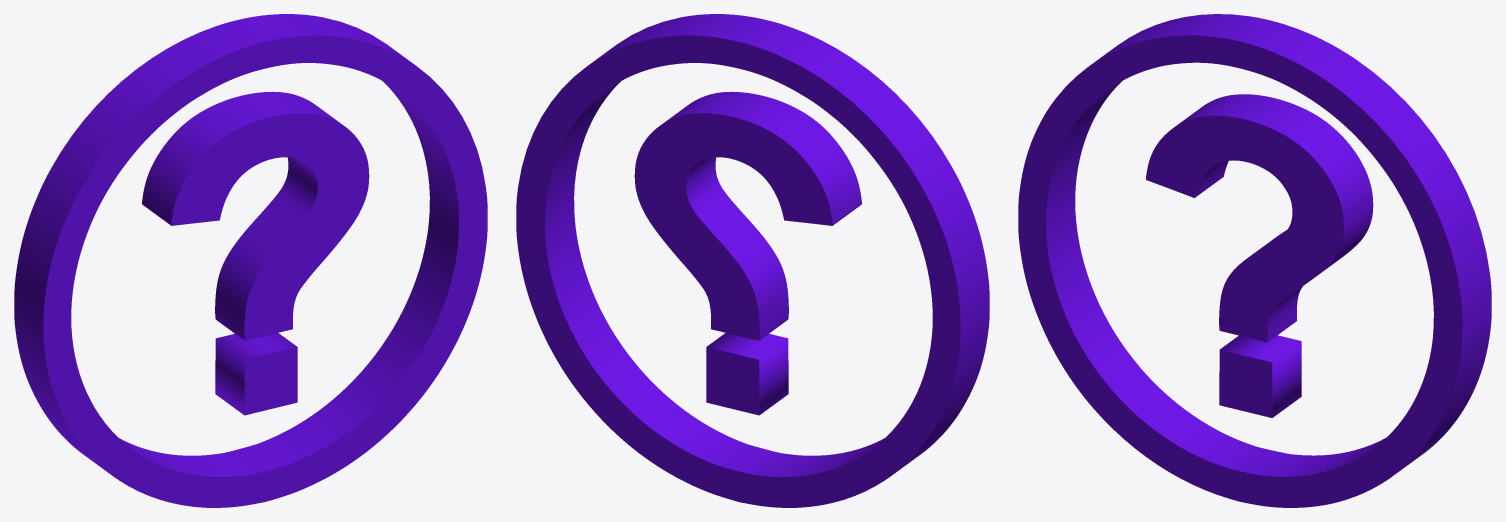
The model's file is Hidden.fbx.
The picture shows the model from 3 angles, left to right: view 1: azimuth 30°, elevation 25°; view 2: azimuth 150°, elevation 25°; view 3: azimuth 330°, elevation 25°; orthographic projection.
Visible parts, largest first — view 1: path1; view 2: path1; view 3: path1.
Boxes of the visible parts, left/top/right/bottom form: path1: left=14, top=14, right=487, bottom=507; path1: left=516, top=14, right=989, bottom=507; path1: left=1018, top=14, right=1491, bottom=507.
Bounding box in the file's own units: 95.76 × 94.78 × 10.92.
